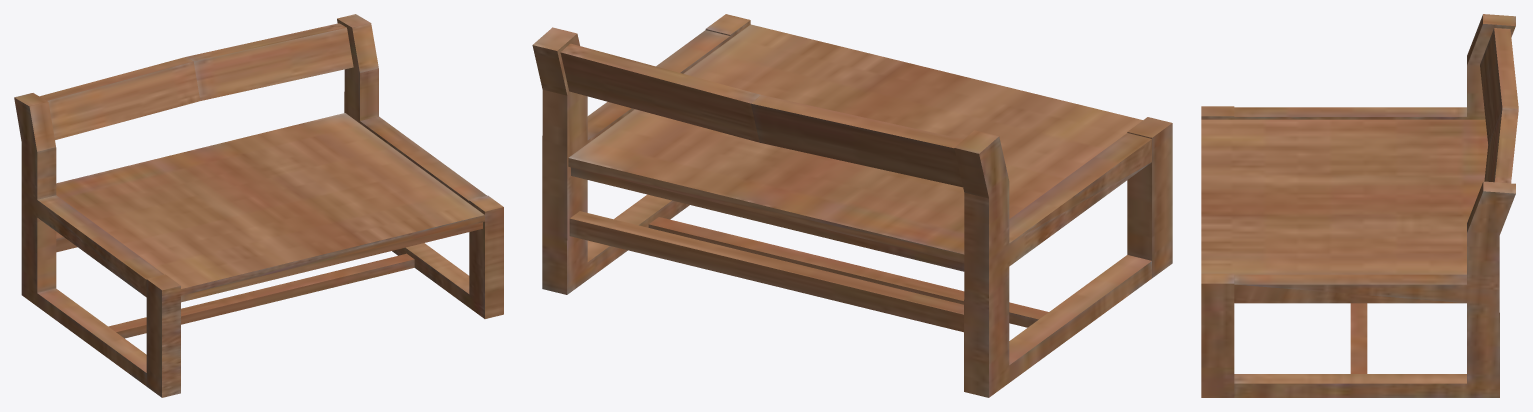
The model's file is chair_0.glb.
The picture shows the model from 3 angles, left to right: view 1: azimuth 30°, elevation 25°; view 2: azimuth 150°, elevation 25°; view 3: azimuth 270°, elevation 25°; orthographic projection. The views are drawn at different scales.
Parts seen in each view (by area): view 1: chair_0; view 2: chair_0; view 3: chair_0.
Boxes of the visible parts, <box> form: chair_0: <box>14,14,503,397</box>; chair_0: <box>532,14,1172,397</box>; chair_0: <box>1201,14,1518,397</box>.
Bounding box in the file's own units: 1.09 × 0.5939 × 0.8272.
Materials: 1 (1 with a texture image).
